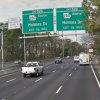Car: (17, 58, 42, 83)
